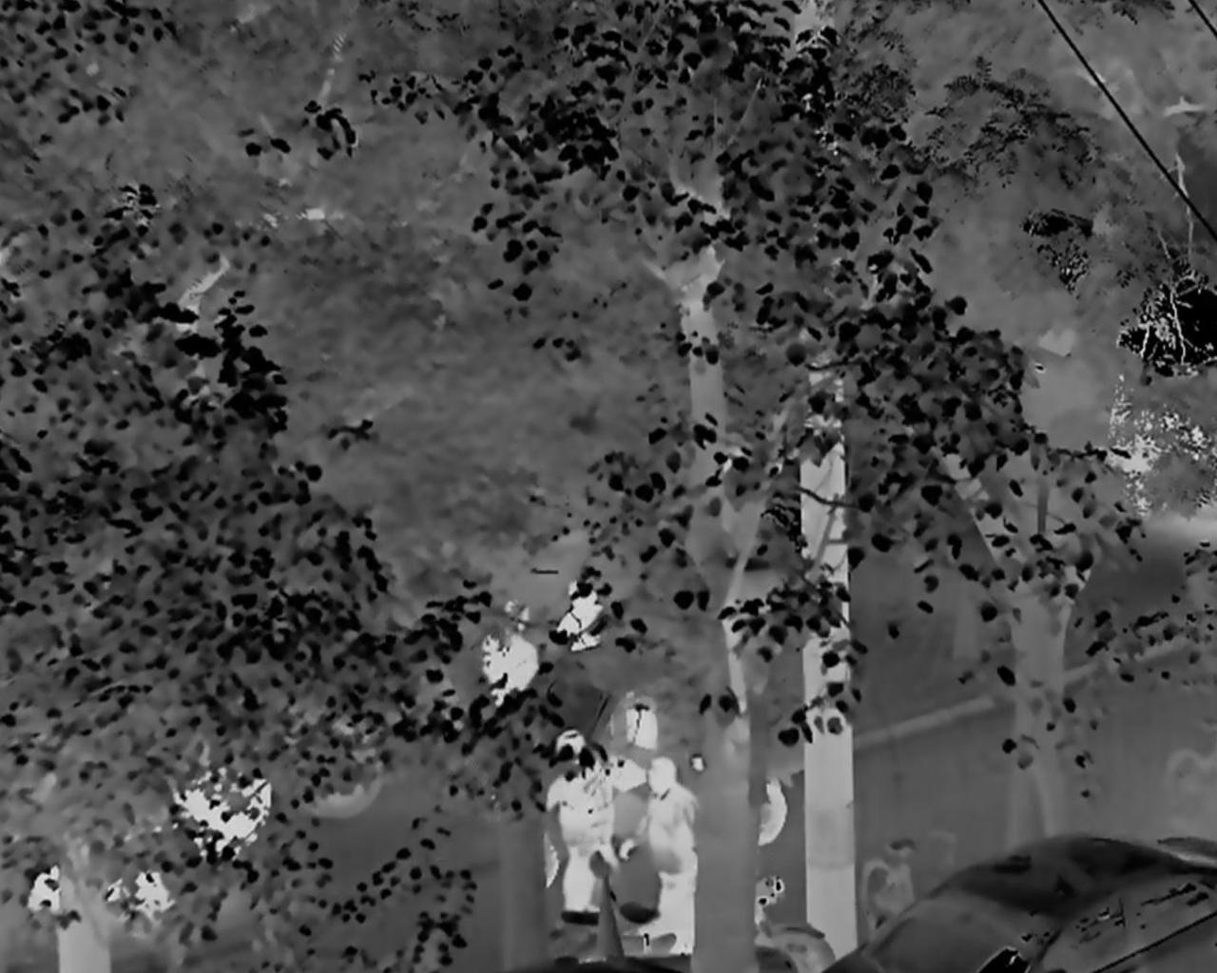person: (618, 755, 696, 953), (545, 730, 619, 916), (482, 601, 541, 700), (555, 581, 606, 647)
